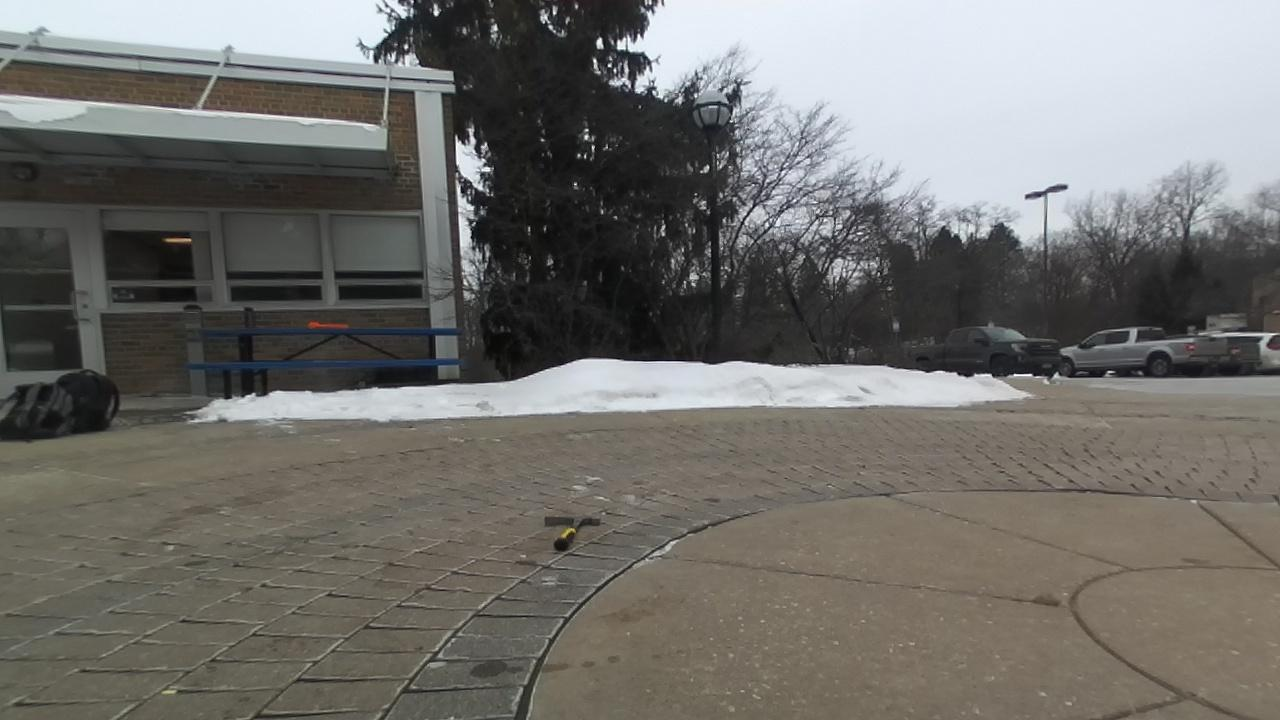mallet: (309, 322, 348, 328)
pick: (545, 517, 600, 551)
